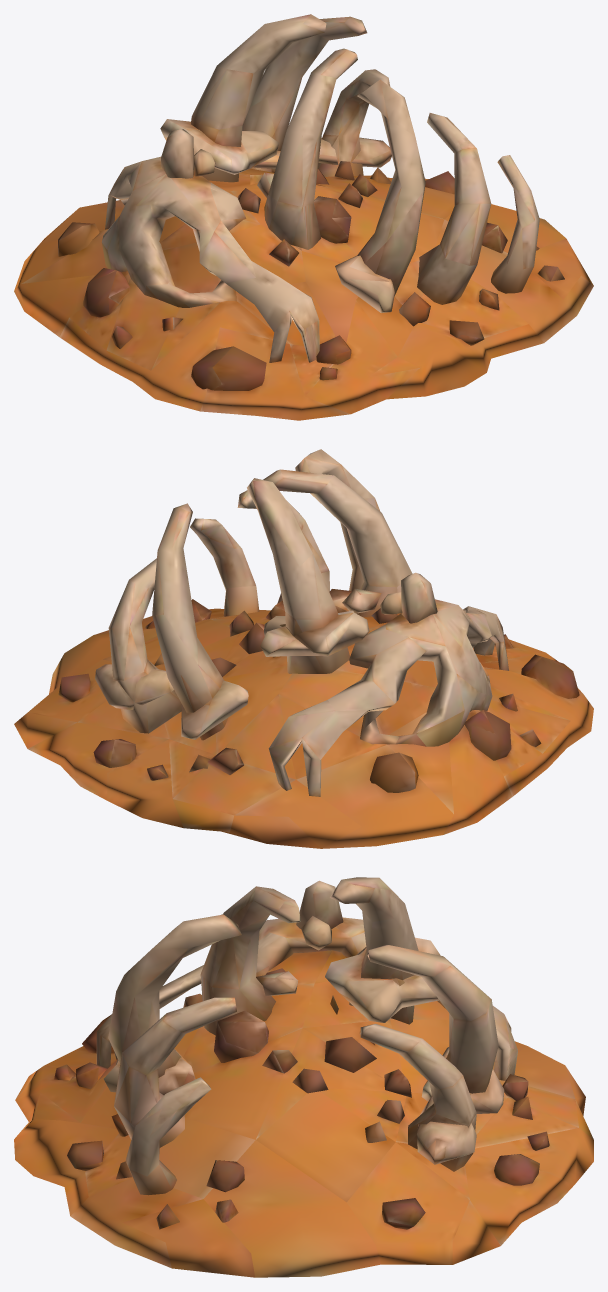
File: desert_bones_1_low.glb
3 renders of one model, top to bottom at view 1: azimuth 30°, elevation 25°; view 2: azimuth 150°, elevation 25°; view 3: azimuth 270°, elevation 25°, orthographic. The views are drawn at different scales.
Parts seen in each view (by area): view 1: Mesh_0.011; view 2: Mesh_0.011; view 3: Mesh_0.011.
Boxes of the visible parts, bbox=[...] form: Mesh_0.011: bbox=[14, 14, 593, 420]; Mesh_0.011: bbox=[14, 449, 593, 848]; Mesh_0.011: bbox=[14, 877, 593, 1277].
Size of the model in its own units: 1 by 0.5234 by 0.9863.
1 material, 1 textured.
